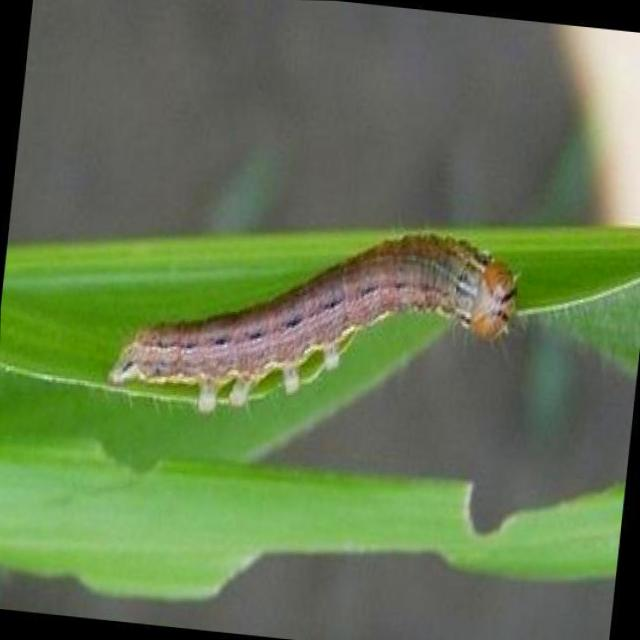pest: (109, 255, 517, 383)
